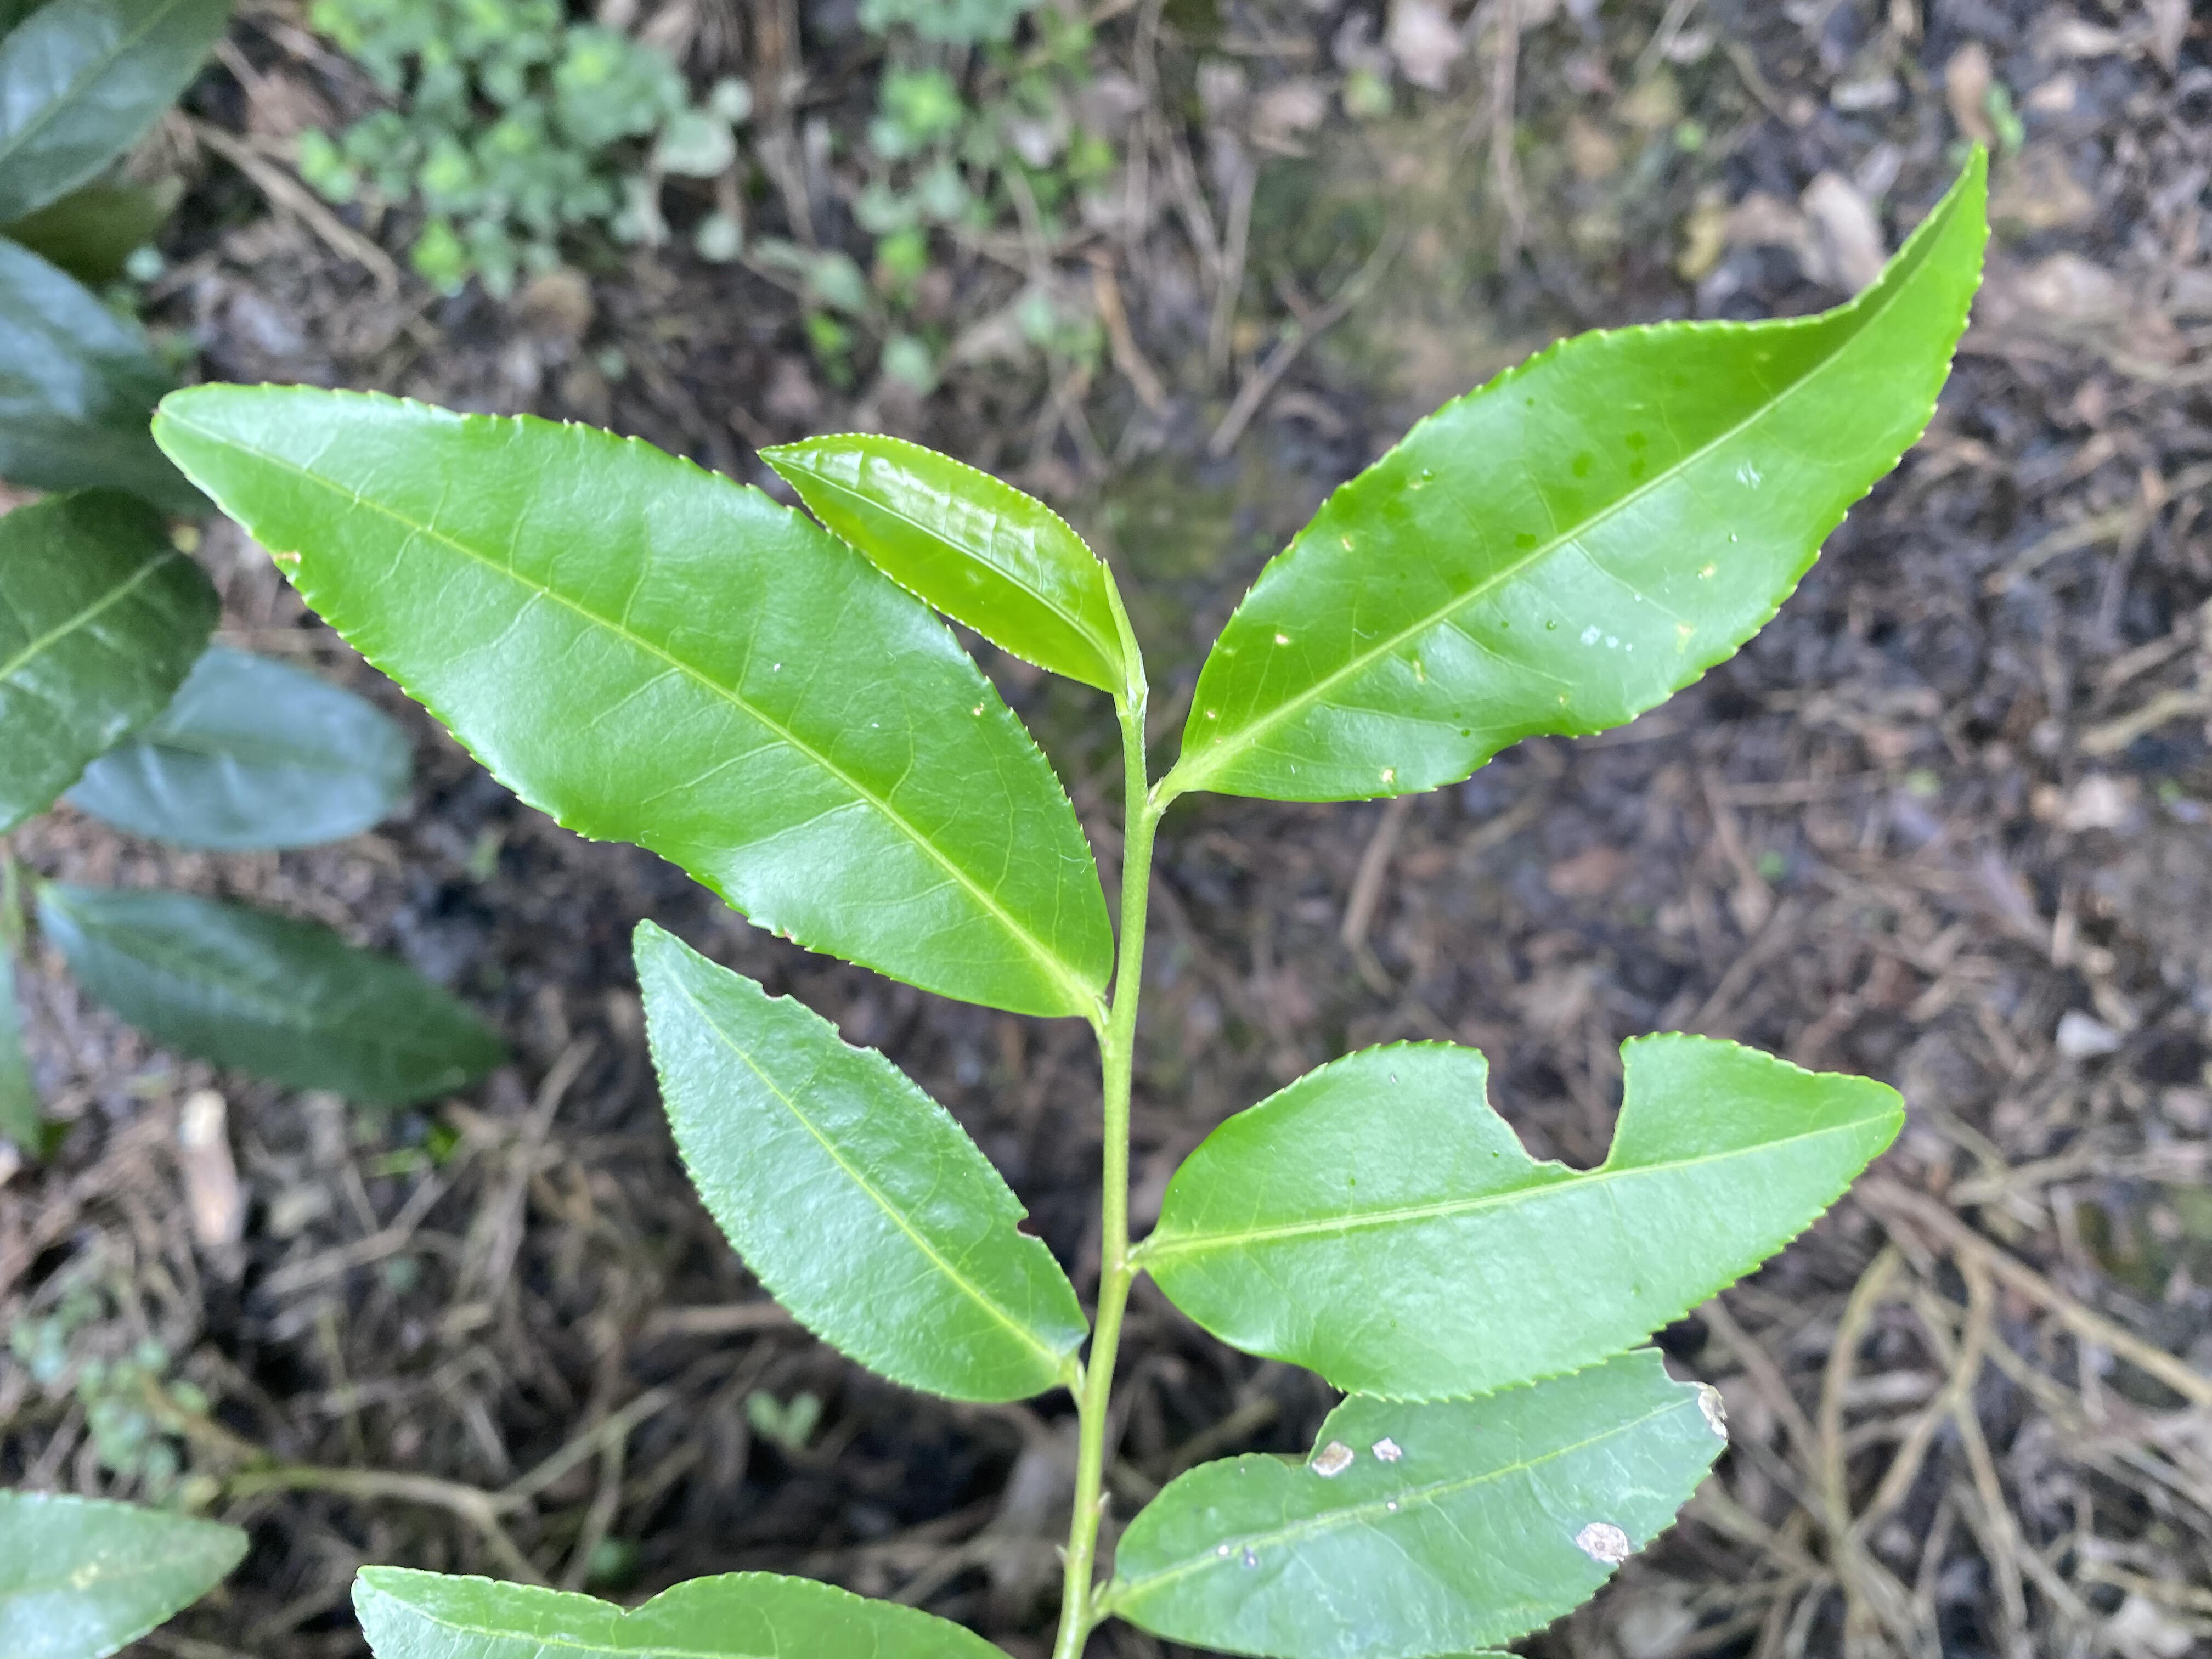chihuo_high: (627, 918, 1092, 1408)
chihuo_low: (1144, 1033, 1909, 1406)
healthy: (152, 376, 1118, 1016), (754, 430, 1129, 688)
tanju_high: (1104, 1349, 1730, 1652)
